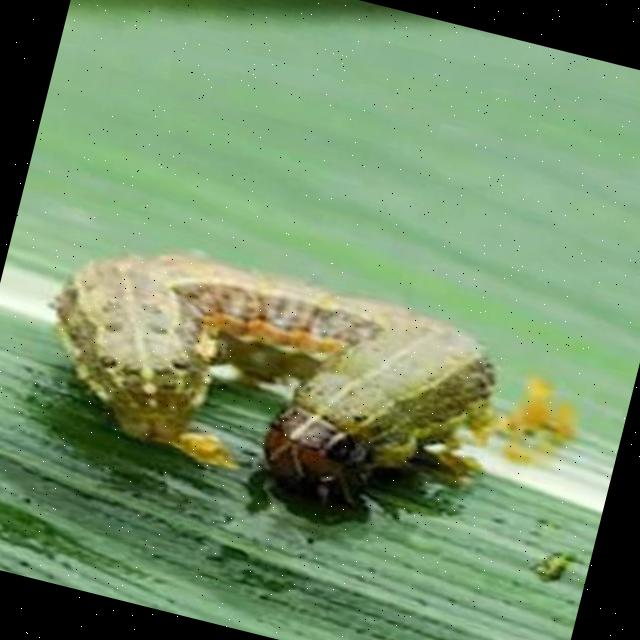worm: (20, 218, 524, 544)
